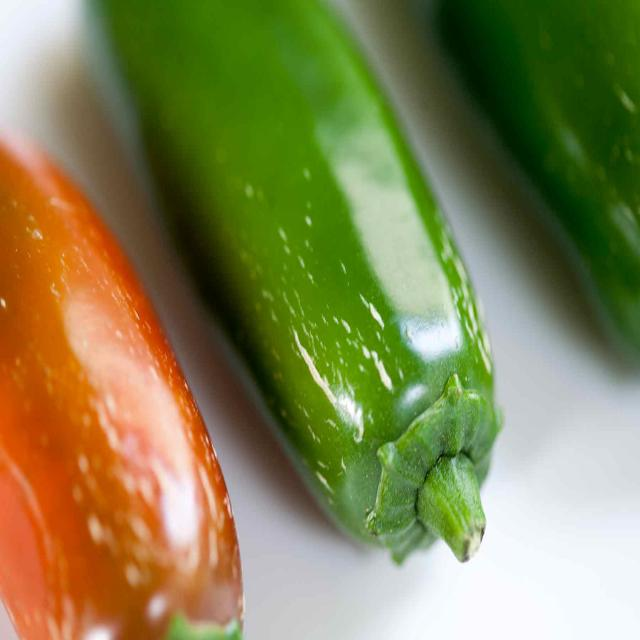aji: (105, 16, 511, 564)
